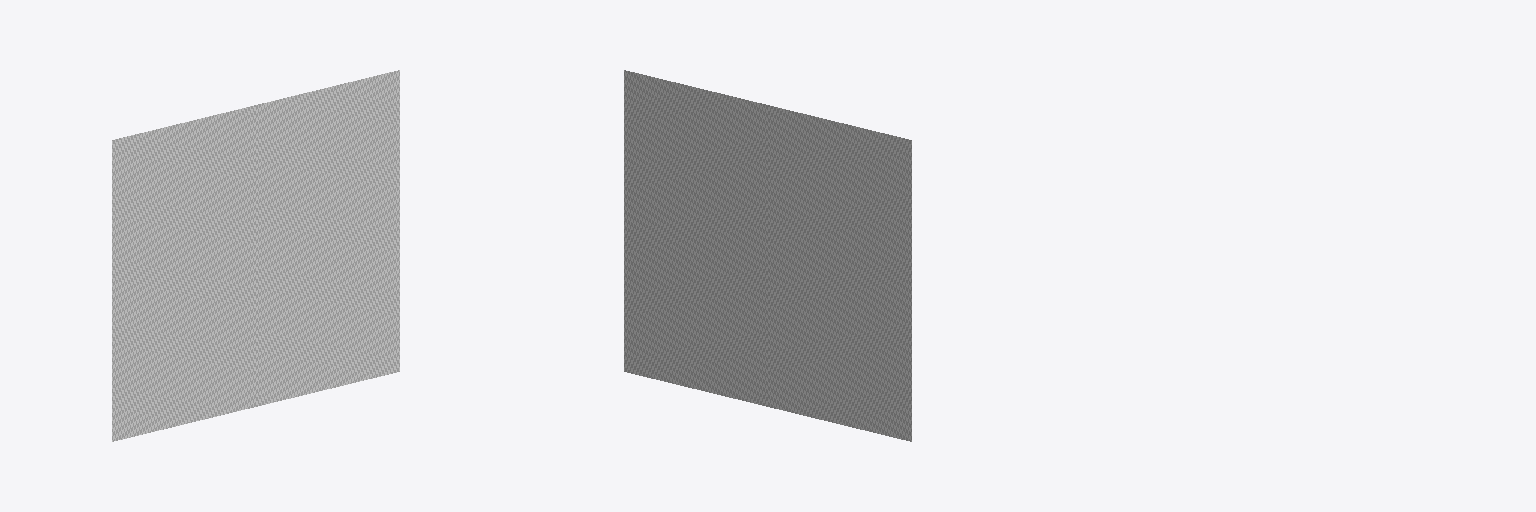
3 renders of one model, left to right at view 1: azimuth 30°, elevation 25°; view 2: azimuth 150°, elevation 25°; view 3: azimuth 270°, elevation 25°, orthographic.
Parts seen in each view (by area): view 1: Plane; view 2: Plane; view 3: none.
Boxes of the visible parts, x1=… form: Plane: x1=112, y1=70, x2=399, y2=441; Plane: x1=624, y1=70, x2=911, y2=441.
Size of the model in its own units: 20000 by 20000 by 0.
Materials: 1 (1 with a texture image).